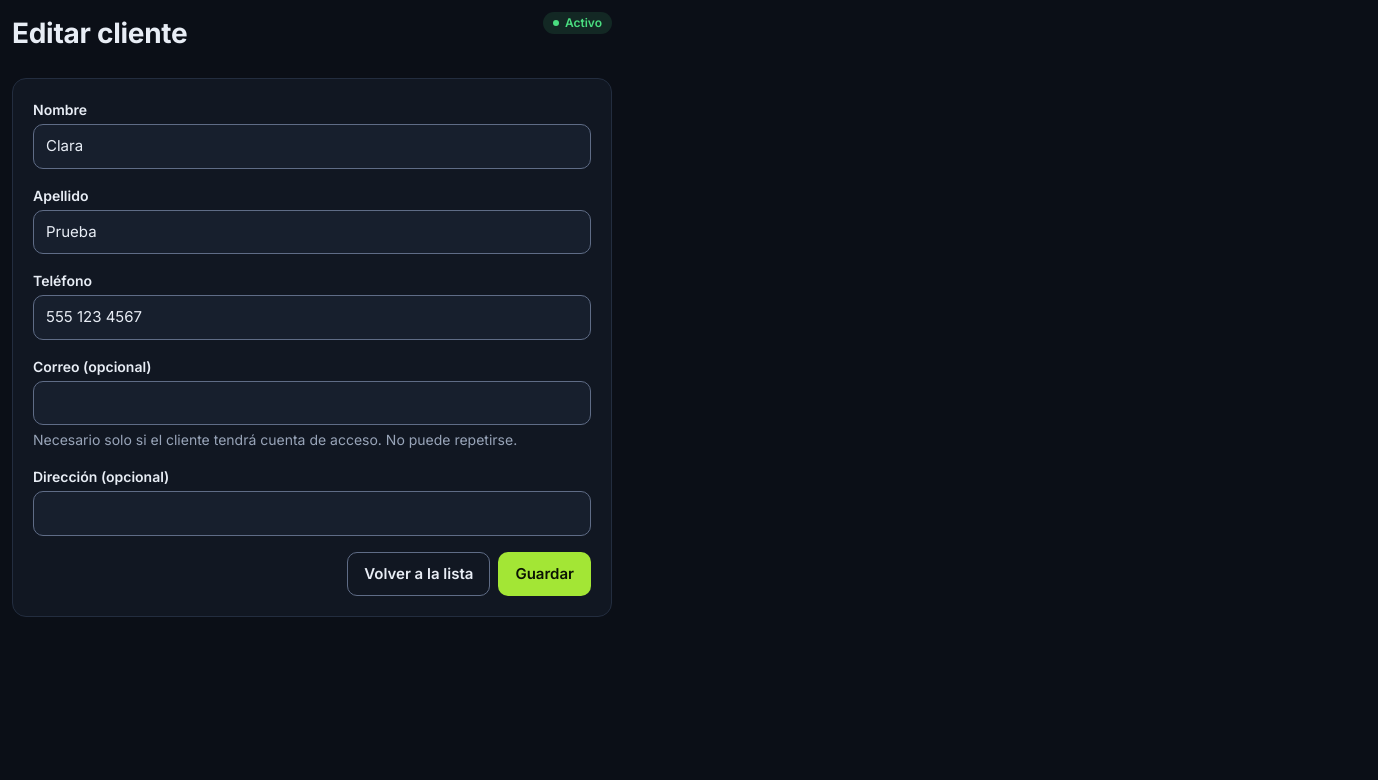
Test: ClienteForm › al editar carga el cliente y envía solo los campos modificados
The image size is (1378, 780).
Check: the field labelled "Nombre" holds "Clara", box [33, 124, 591, 168]
Replace the text in the field labelled "Teléfono" with "555 000 1111" at [312, 317], box [33, 295, 591, 340]
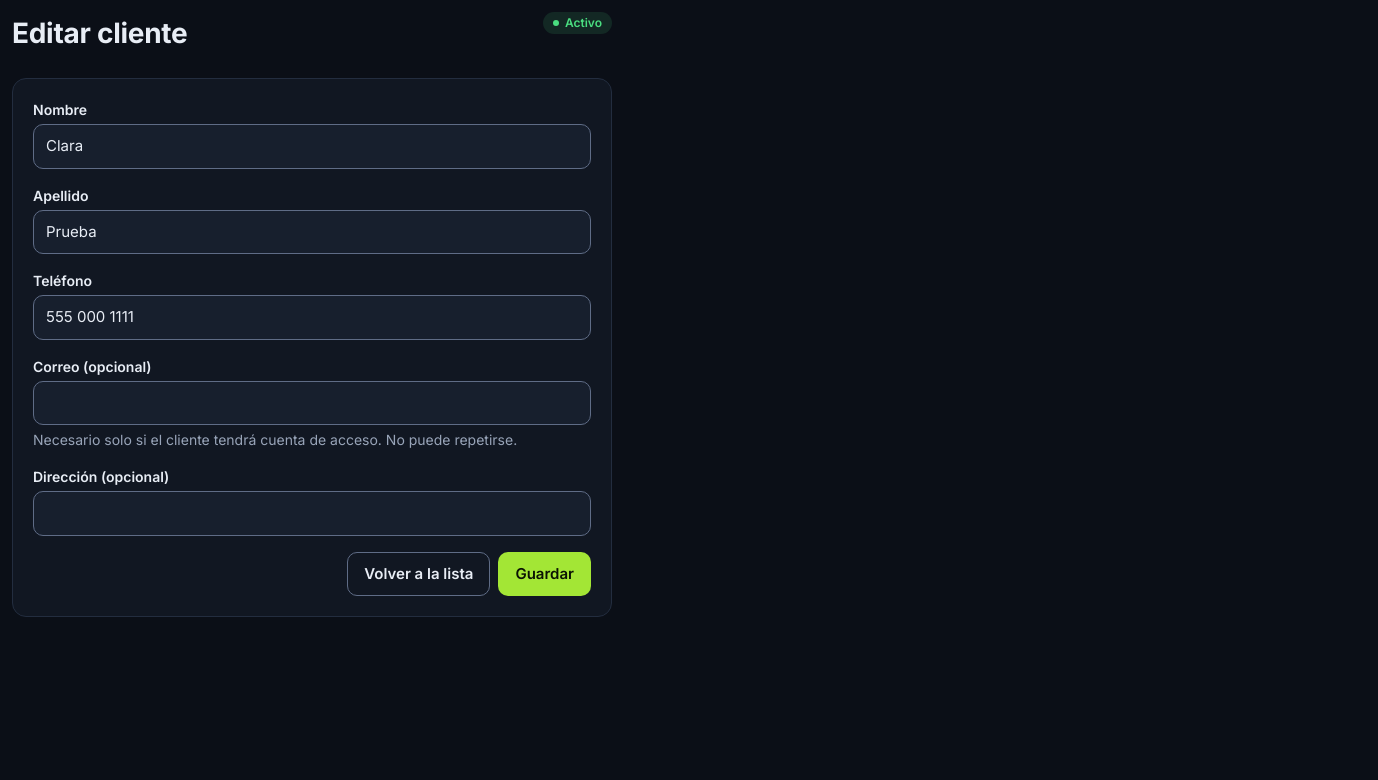
Click the button "Guardar" at [545, 574], box [498, 552, 591, 596]
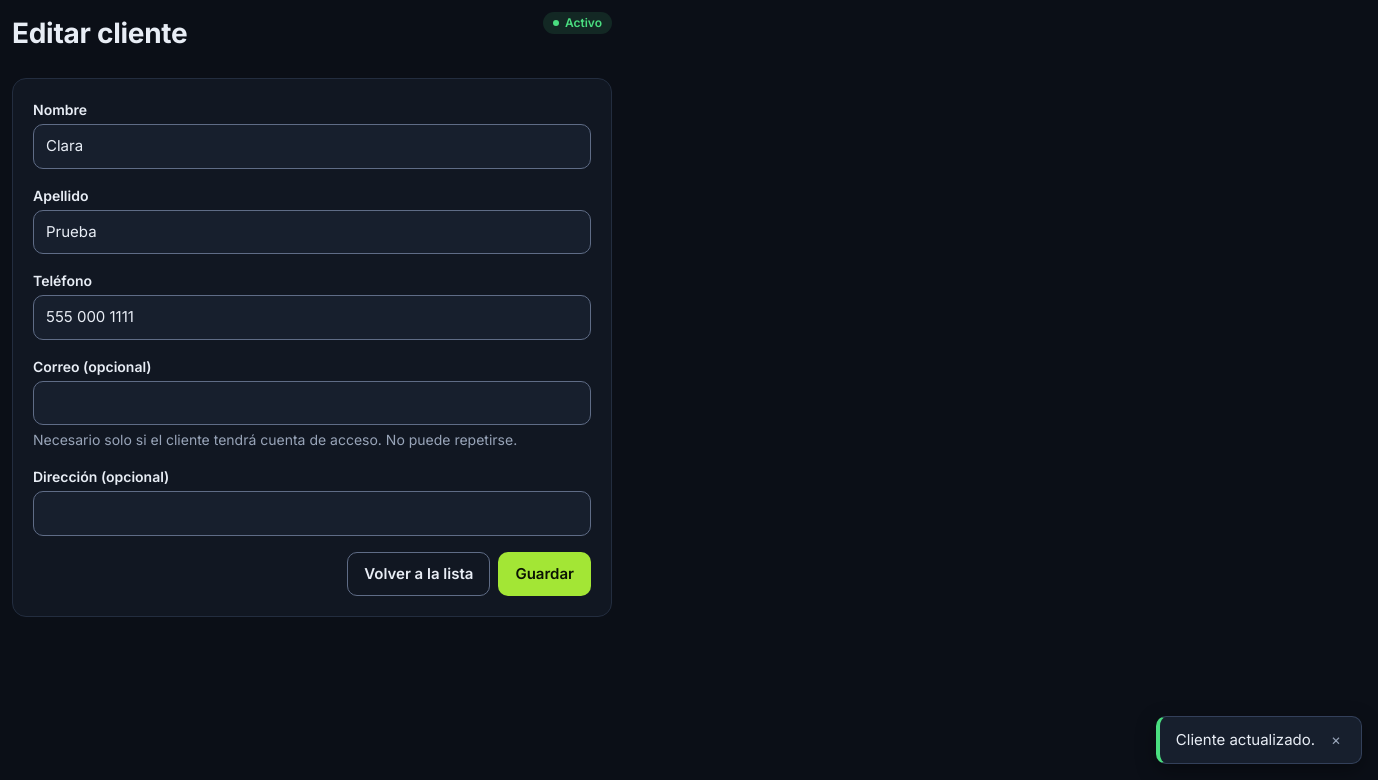
Check: the text "Cliente actualizado." is shown, box [1176, 728, 1315, 751]
